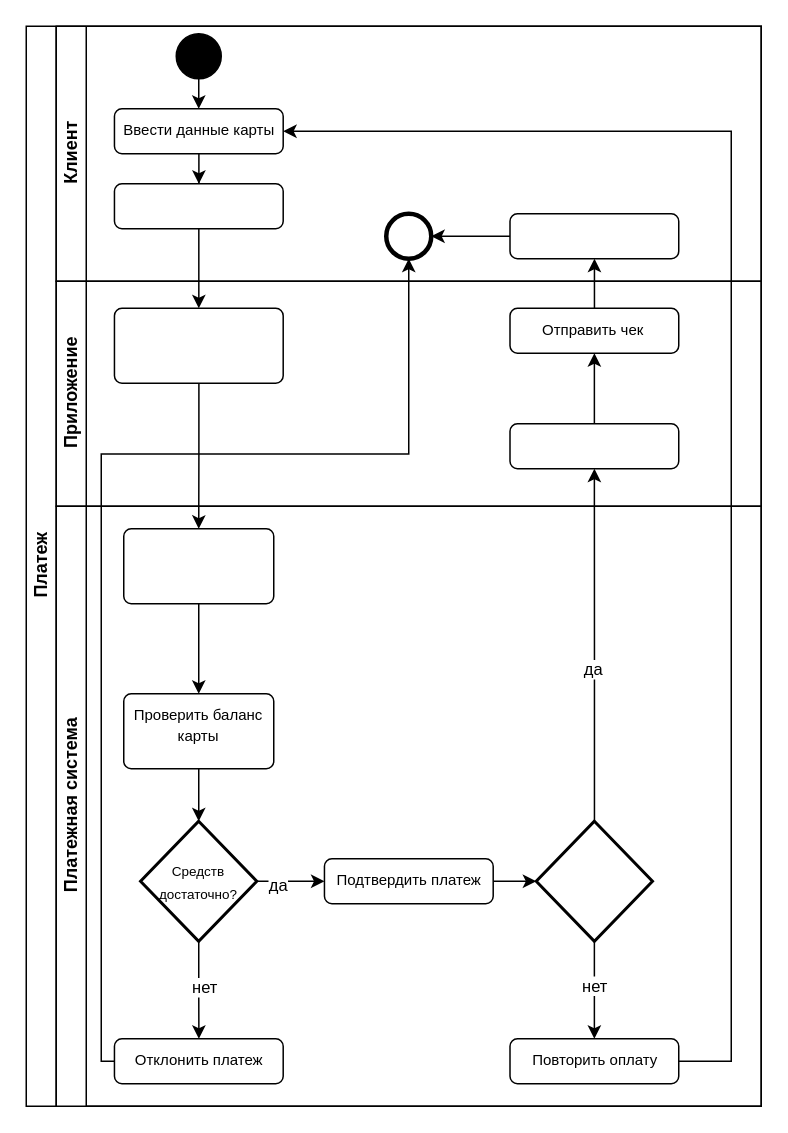
The diagram is 788 pixels wide and 1133 high, and some of its shapes have lost their labels. The centre of each missing label's shape, as x and y in pixels:
"Оплата прошла?" belongs at point (593, 880).
"Отправить запрос в банк" belongs at point (198, 565).
"Подтвердить оплату" belongs at point (198, 205).
"Получить чек" belongs at point (593, 235).
"Сформировать платежный запрос" belongs at point (198, 345).
"Уведомить кухню" belongs at point (593, 445).
